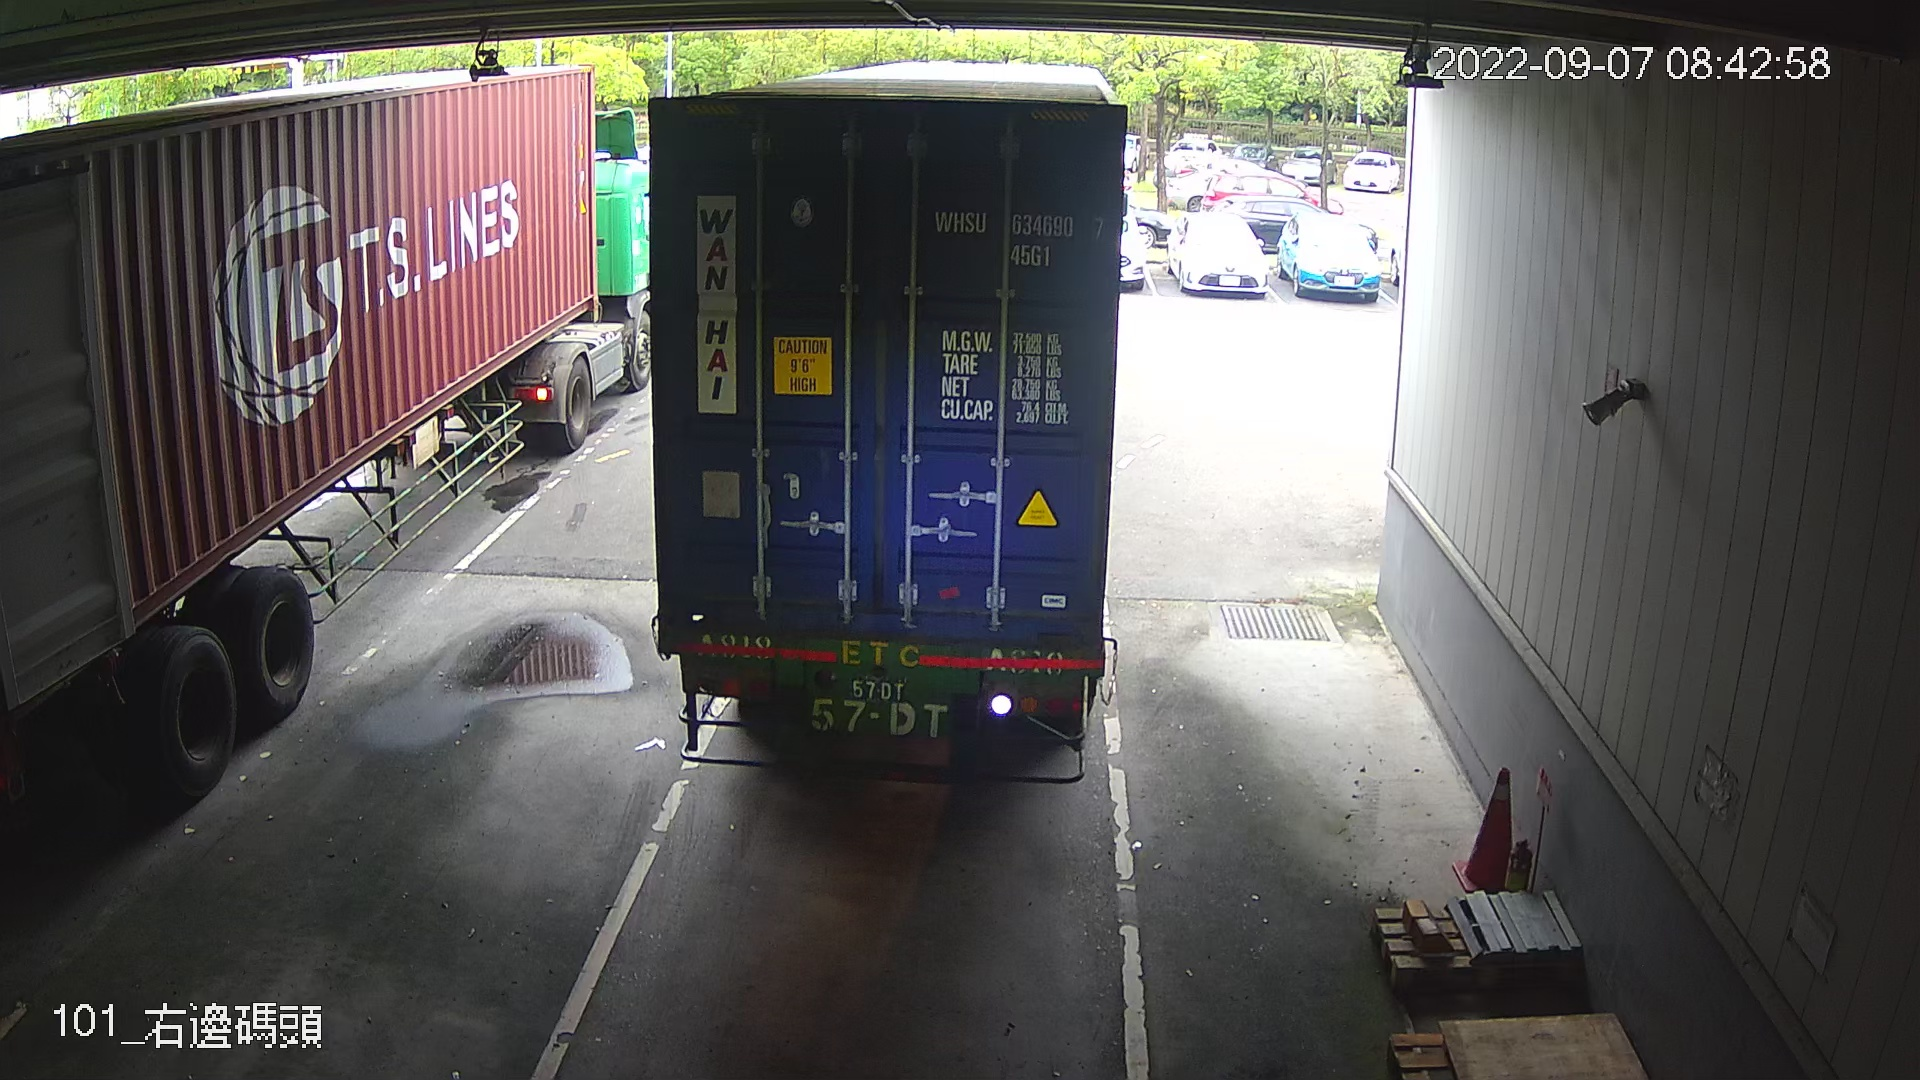container: (923, 198, 1110, 270)
